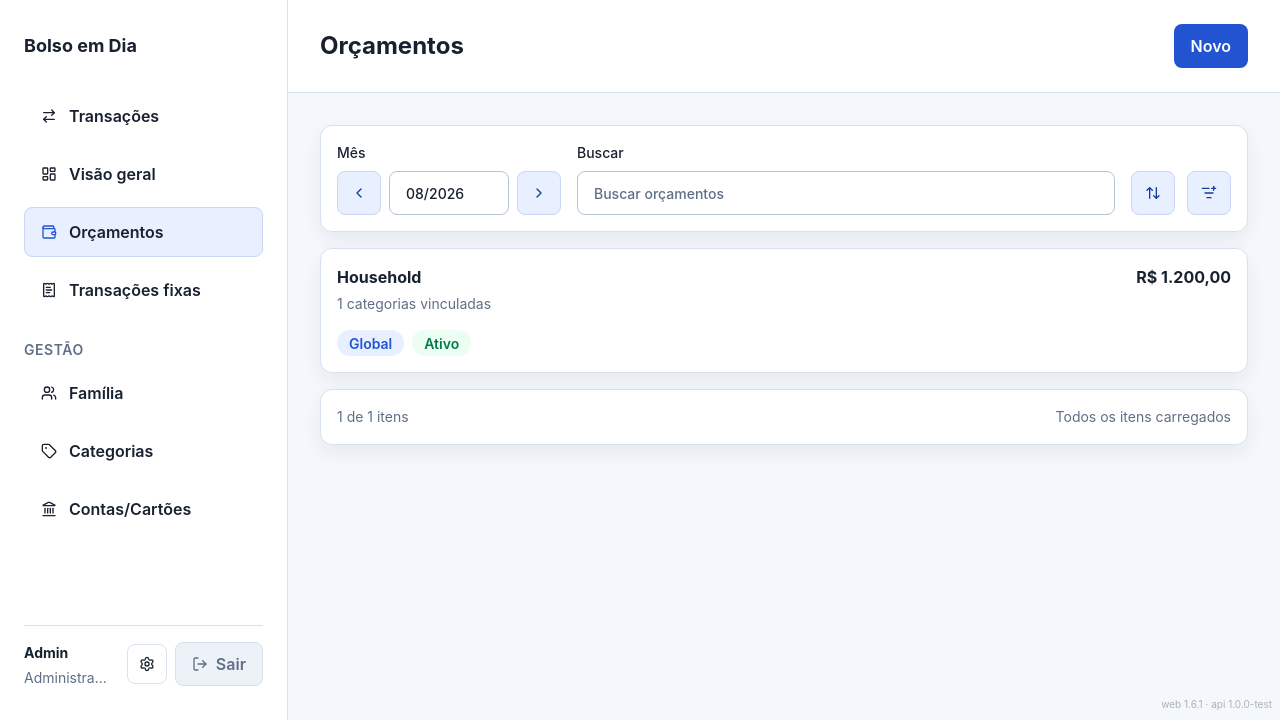
Test: BudgetsPage › shows error feedback when archive fails
The image size is (1280, 720).
Click the button "Household" at {"x": 379, "y": 277}, box [337,265,1231,356]
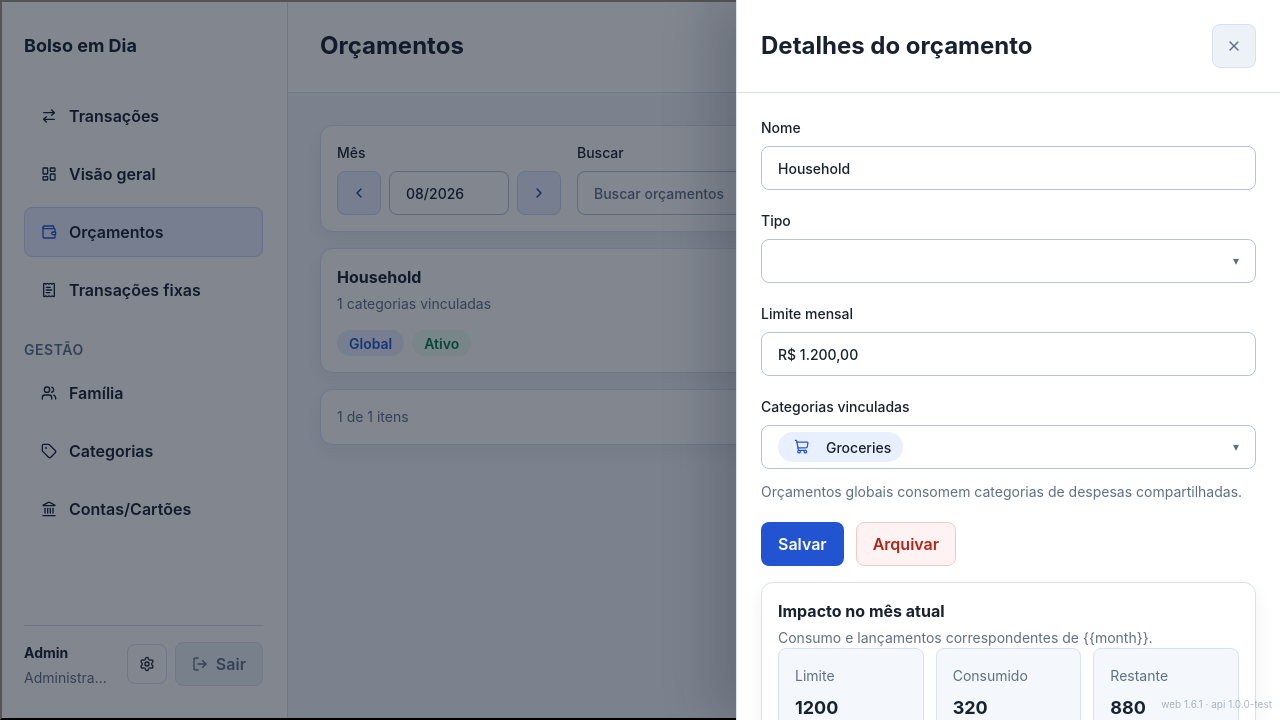
Click the button "Arquivar" at {"x": 906, "y": 544}, box [856,522,956,566]
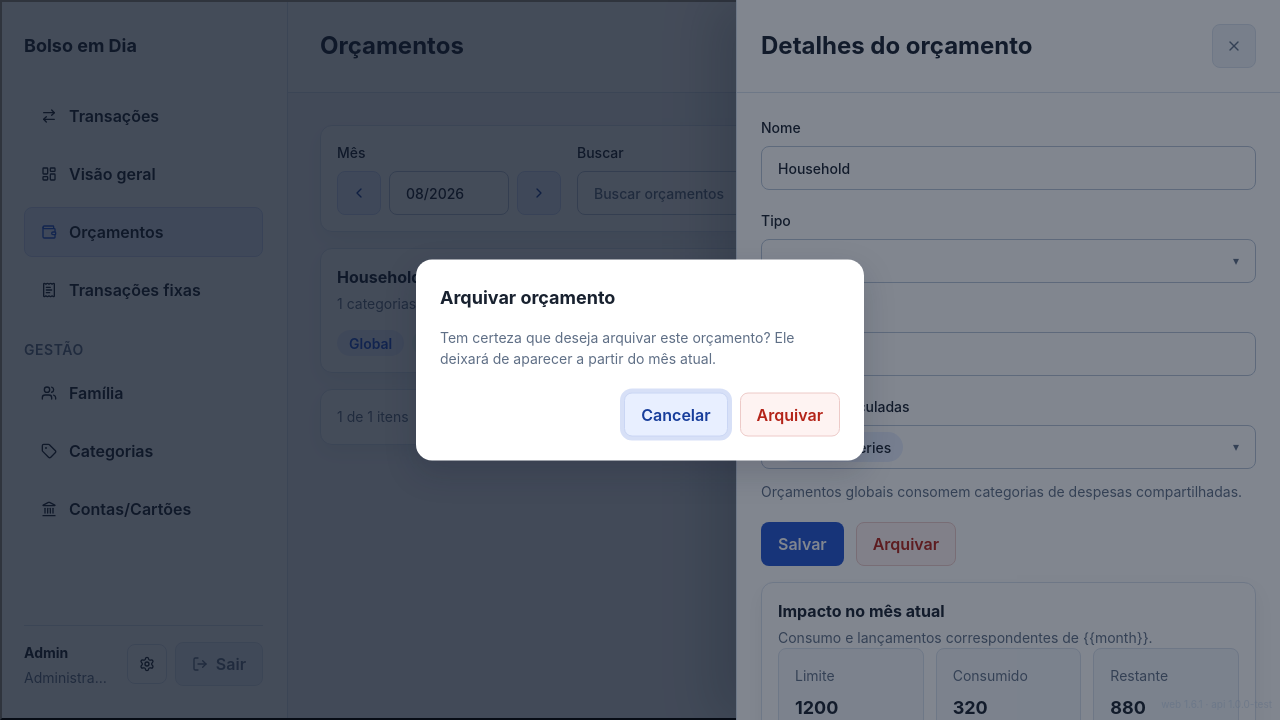
Click the button "Arquivar" at {"x": 790, "y": 414}, box [740,392,840,436]
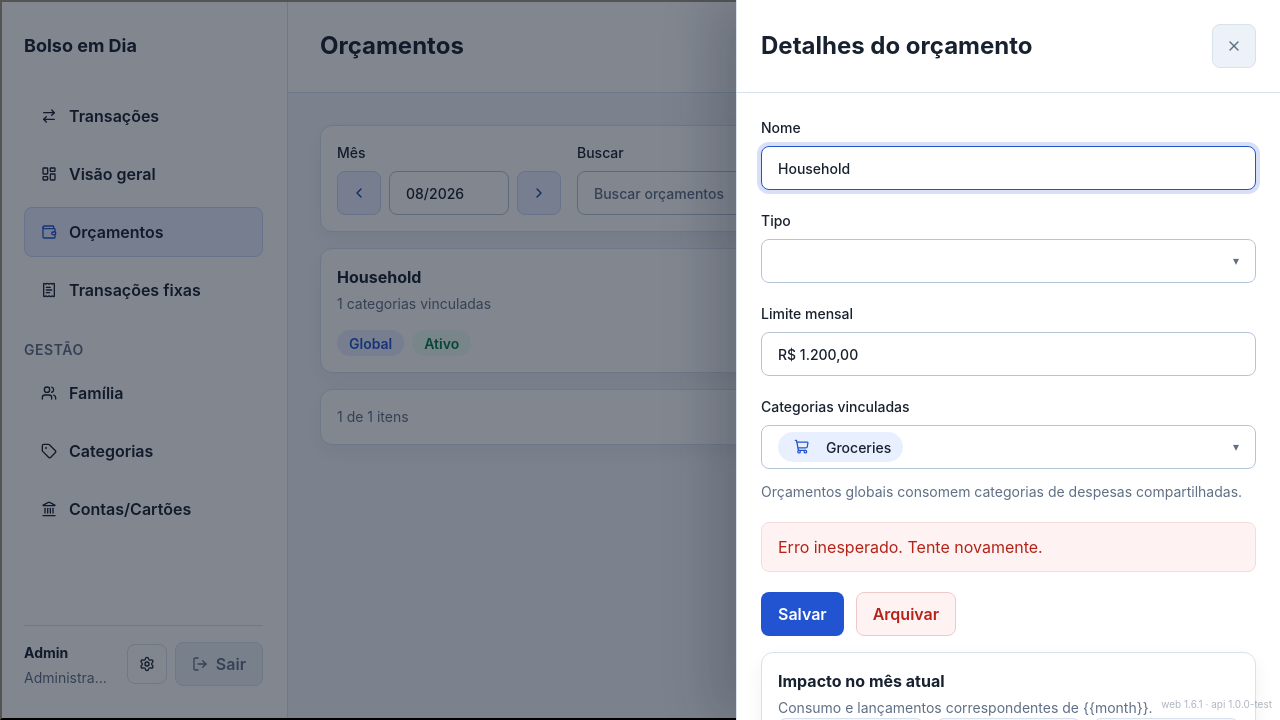
expect the text "Erro inesperado. Tente novamente." is shown: met, box [761,522,1256,572]
